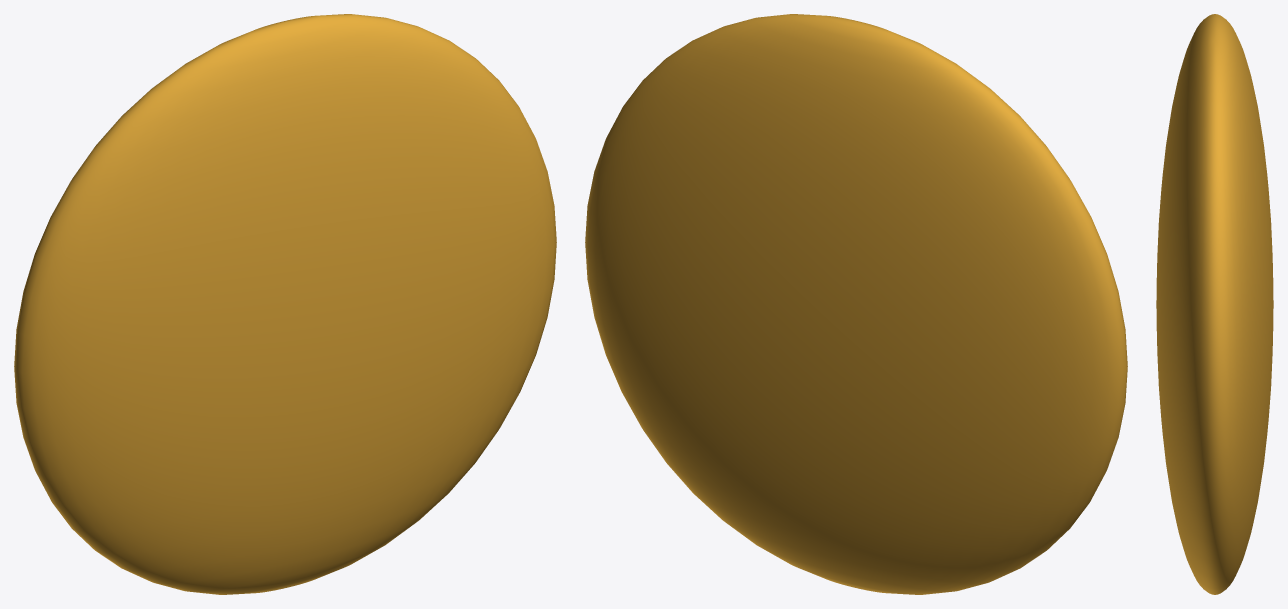
File: sky_sun.glb
3 views of the same model, side by side, from view 1: azimuth 30°, elevation 25°; view 2: azimuth 150°, elevation 25°; view 3: azimuth 270°, elevation 25° (orthographic). The views are drawn at different scales.
Visible parts, largest first — view 1: SunDisc; view 2: SunDisc; view 3: SunDisc.
Boxes of the visible parts, box(x1,y1,x2,y2) form: SunDisc: box(14, 14, 556, 594); SunDisc: box(585, 14, 1127, 594); SunDisc: box(1156, 14, 1273, 594).
Size of the model in its own units: 1.44 by 1.44 by 0.29.
